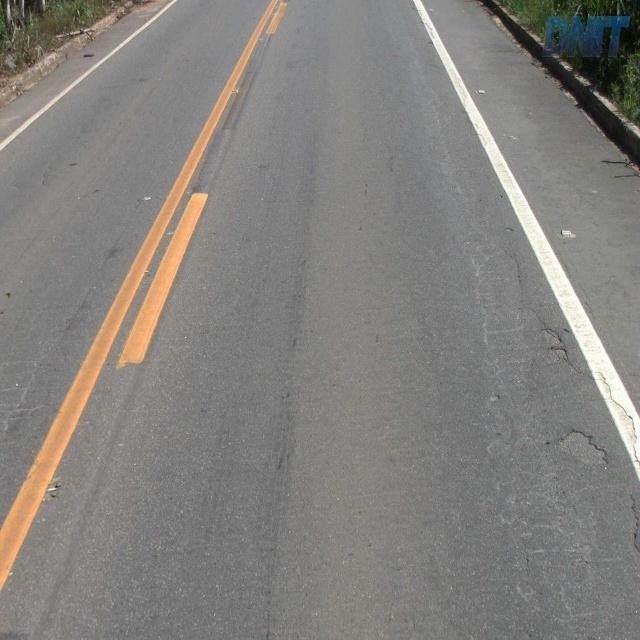pothole: (552, 421, 613, 473), (536, 321, 575, 369)
